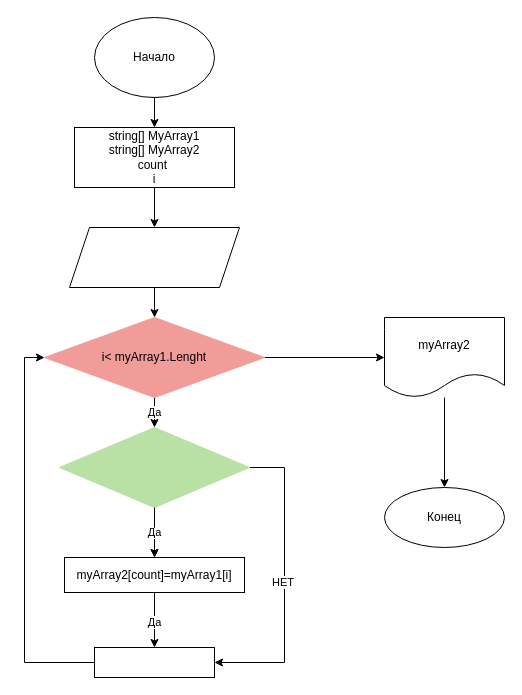
Some shapes in this 522 by 695 pixel diagram are drawn without their labels. The centre of each missing label's shape, as x and y in pixels:
count ++: the point at 154,662
myArray1[i].Leght <=3: the point at 154,467
string[] MyArray1[5] count = 0 i = 0: the point at 154,257
